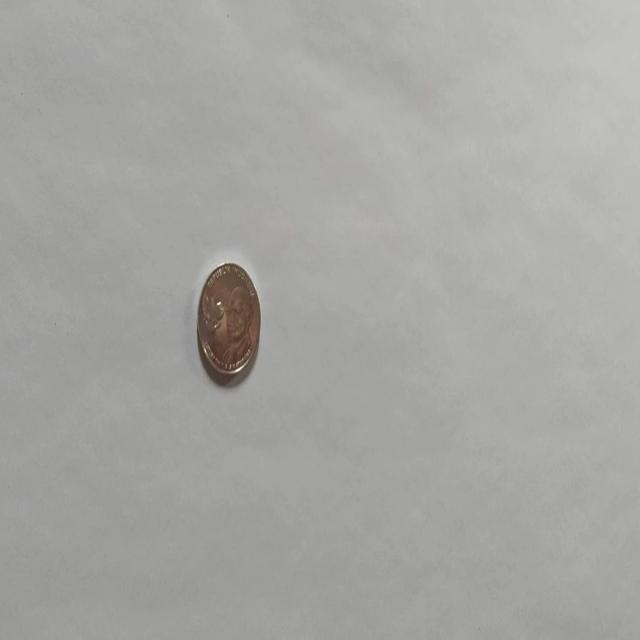lima ratus rupiah: (196, 260, 262, 380)
